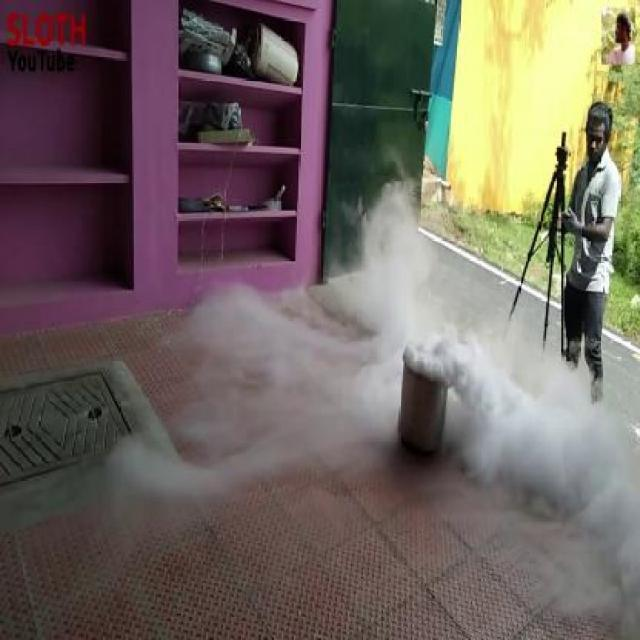smoke: (402, 272, 626, 571)
